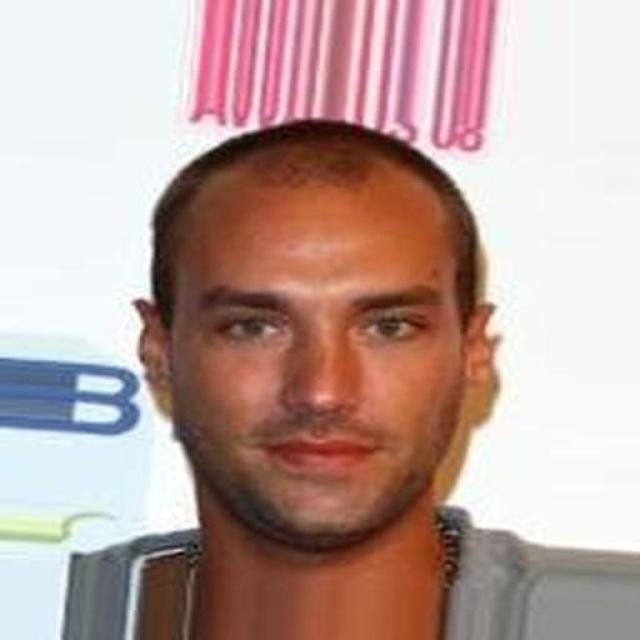bareface: (166, 143, 469, 528)
